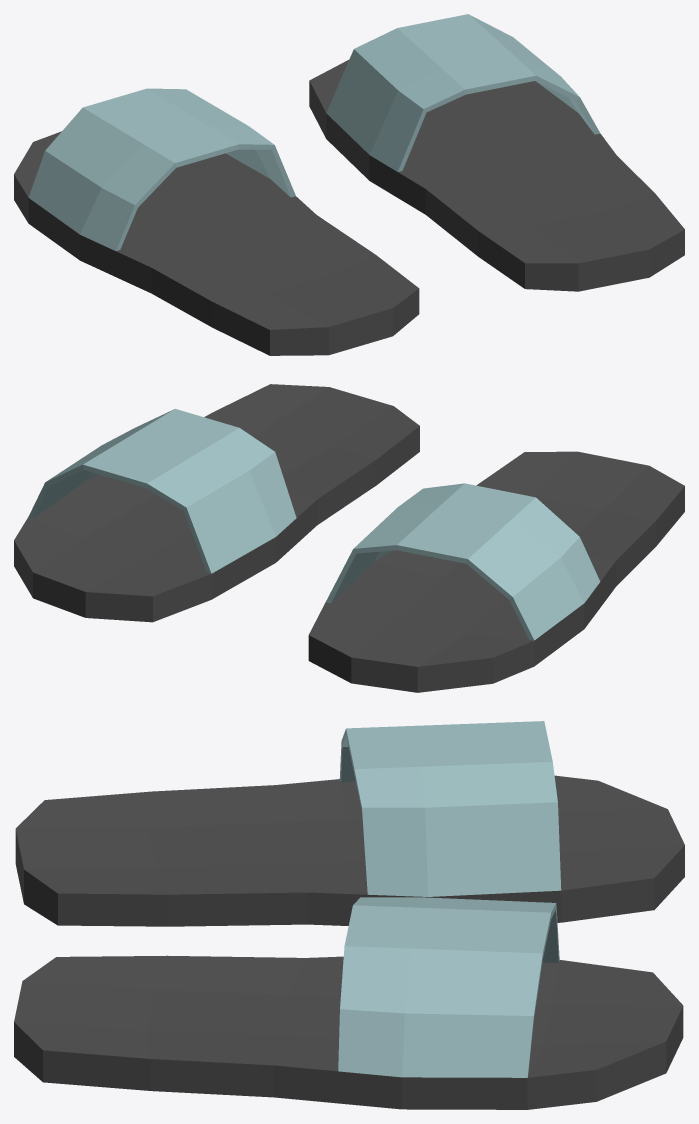
Rendered from Claquettes.fbx.
3 views of the same model, one above another, from view 1: azimuth 30°, elevation 25°; view 2: azimuth 150°, elevation 25°; view 3: azimuth 270°, elevation 25° (orthographic). The views are drawn at different scales.
Parts seen in each view (by area): view 1: Claquettes; view 2: Claquettes; view 3: Claquettes.
Boxes of the visible parts, x1,y1,x2,y2 form: Claquettes: (14, 14, 684, 355); Claquettes: (14, 384, 684, 692); Claquettes: (14, 721, 684, 1109).
Bounding box in the file's own units: 30.63 × 5.85 × 28.46.
